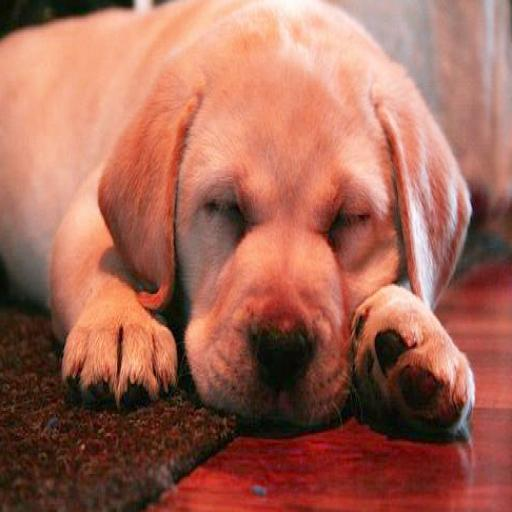dog_face: (121, 46, 461, 419)
